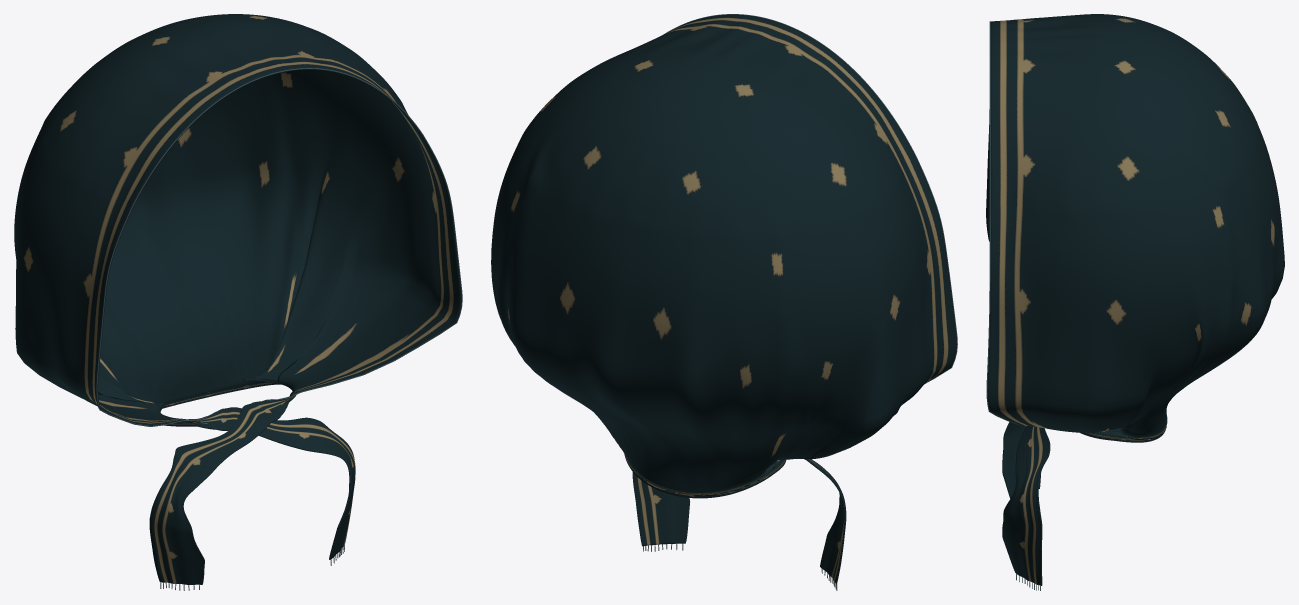
Rendered from Feminine-jersey-compact-pashmina248-headgear.glb.
The picture shows the model from 3 angles, left to right: view 1: azimuth 30°, elevation 25°; view 2: azimuth 150°, elevation 25°; view 3: azimuth 270°, elevation 25°; orthographic projection. The views are drawn at different scales.
Parts seen in each view (by area): view 1: 226 headgear / Headwear / continuous woven pashmina239, 226 headgear / Headwear / face edge239; view 2: 226 headgear / Headwear / continuous woven pashmina239, 226 headgear / Headwear / face edge239; view 3: 226 headgear / Headwear / continuous woven pashmina239, 226 headgear / Headwear / face edge239.
Part boxes in pixels (left/top/right/bottom): 226 headgear / Headwear / continuous woven pashmina239: left=14, top=14, right=461, bottom=584; 226 headgear / Headwear / face edge239: left=96, top=68, right=462, bottom=426; 226 headgear / Headwear / continuous woven pashmina239: left=491, top=14, right=956, bottom=584; 226 headgear / Headwear / face edge239: left=665, top=14, right=957, bottom=383; 226 headgear / Headwear / continuous woven pashmina239: left=986, top=14, right=1284, bottom=585; 226 headgear / Headwear / face edge239: left=986, top=21, right=1027, bottom=425.
Bounding box in the file's own units: 1.02 × 1.35 × 0.7112.
3 materials, 1 textured.
